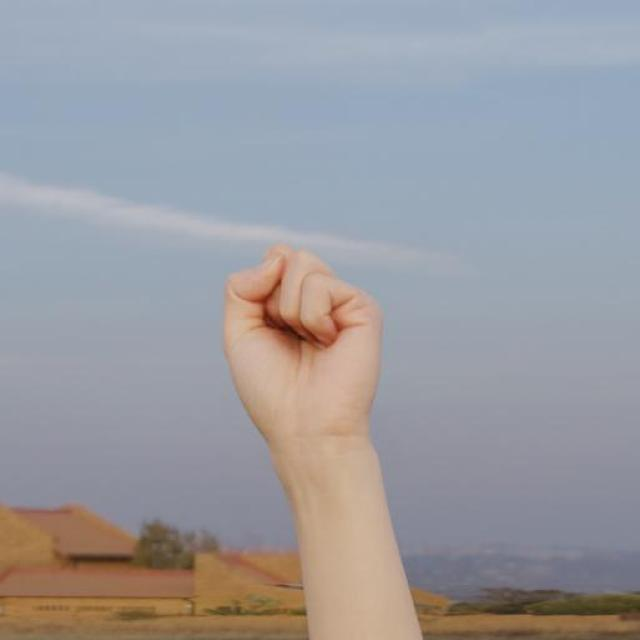S: (217, 239, 391, 451)
